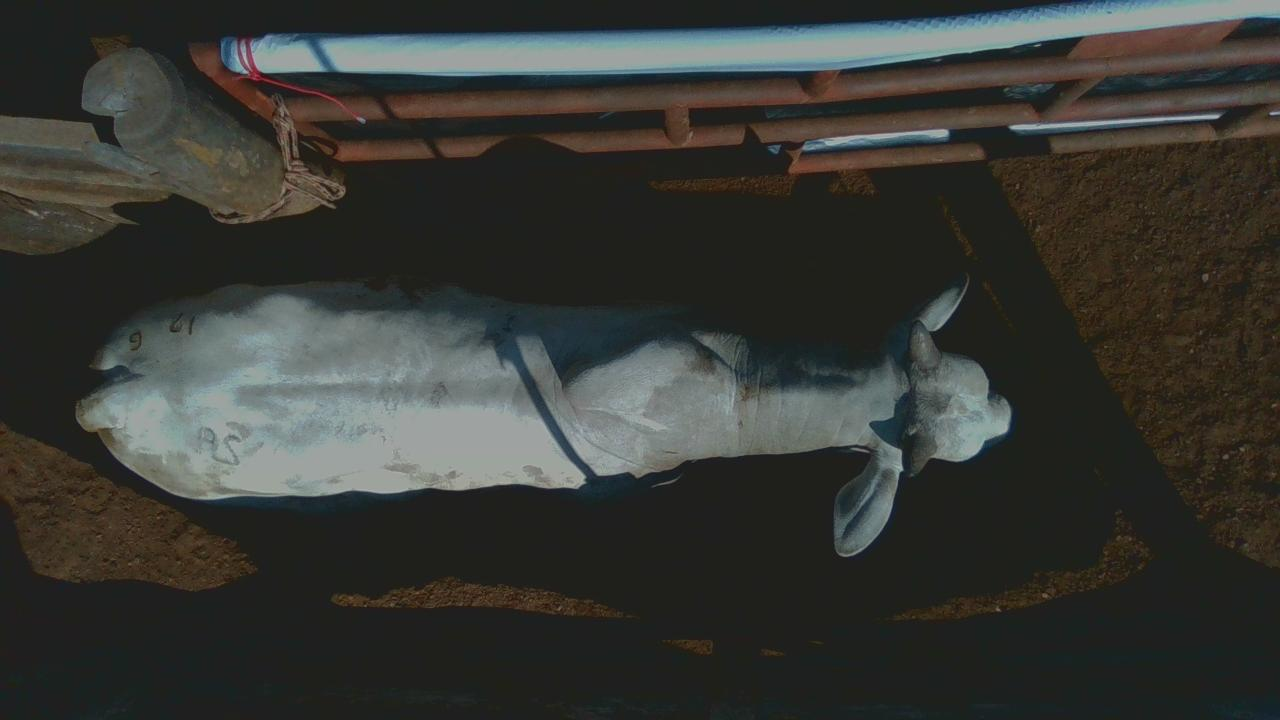cattle: (74, 270, 1012, 557)
